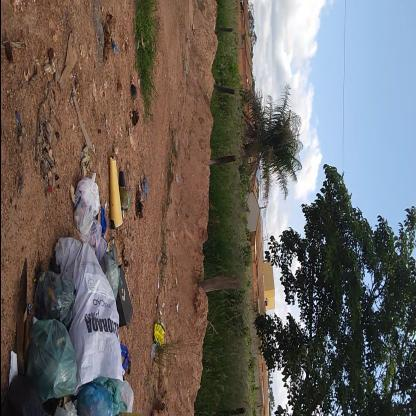lixo: (11, 154, 129, 416)
